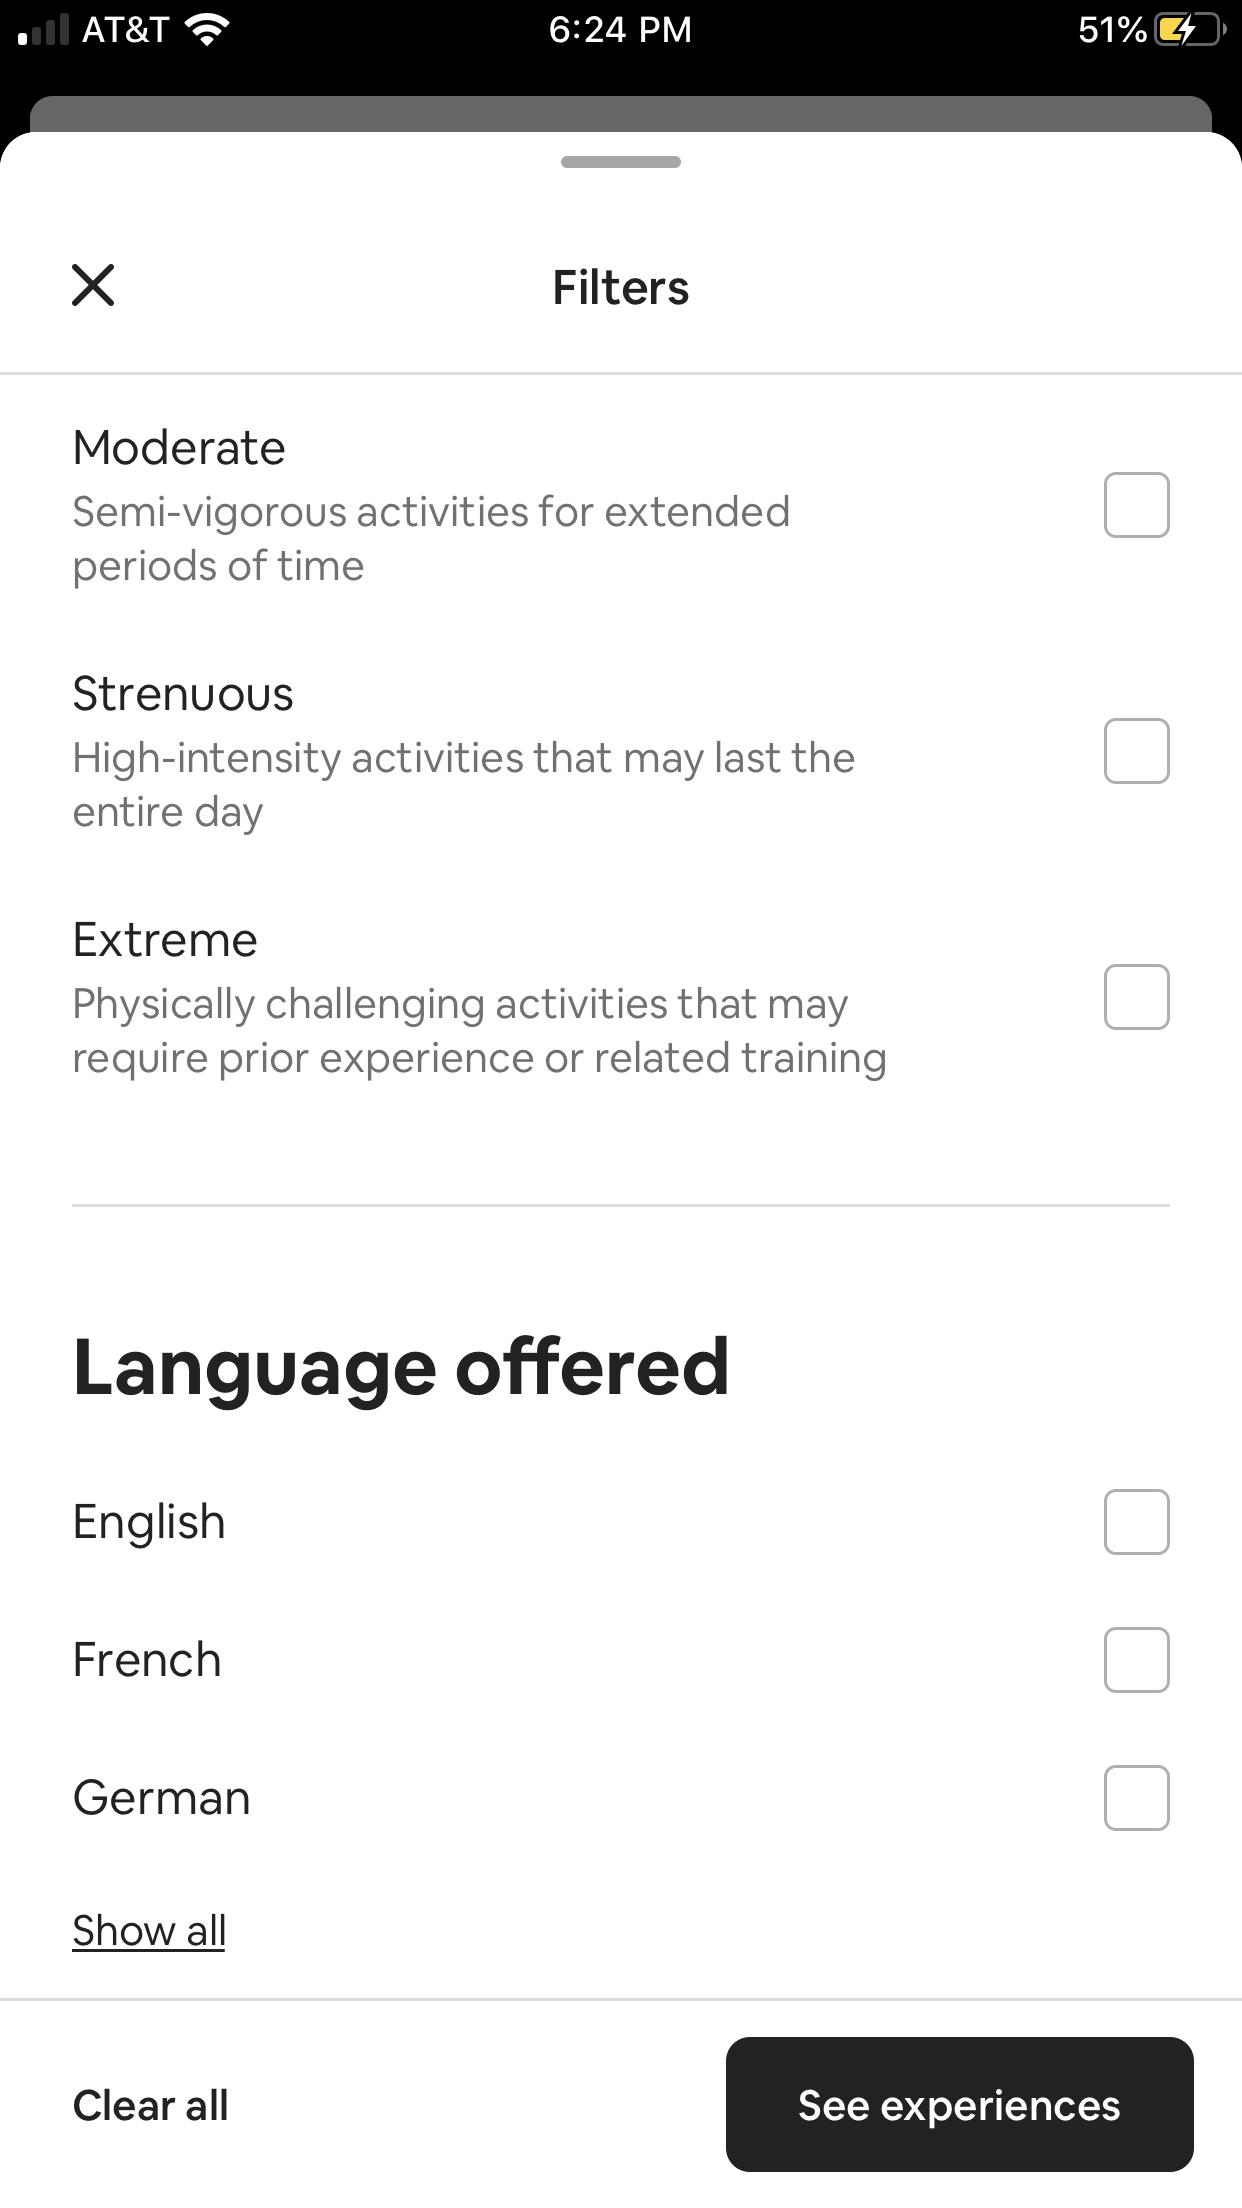CheckedTextView: (73, 472, 1171, 590), (74, 717, 1171, 836), (74, 964, 1171, 1083), (74, 1626, 1171, 1694), (74, 1764, 1171, 1832), (76, 1488, 1171, 1556)
Icon: (71, 264, 115, 308)
Text: (74, 987, 886, 1083), (74, 740, 855, 836), (73, 493, 789, 590), (77, 1335, 729, 1412), (74, 428, 287, 467), (74, 675, 294, 713), (76, 1501, 226, 1550), (74, 921, 258, 958), (74, 1777, 250, 1817), (71, 1912, 226, 1953), (74, 1639, 221, 1679), (74, 2087, 227, 2122), (555, 268, 690, 306)
TextButton: (726, 2037, 1195, 2173)
UpperTaskBar: (2, 2, 1242, 49)
